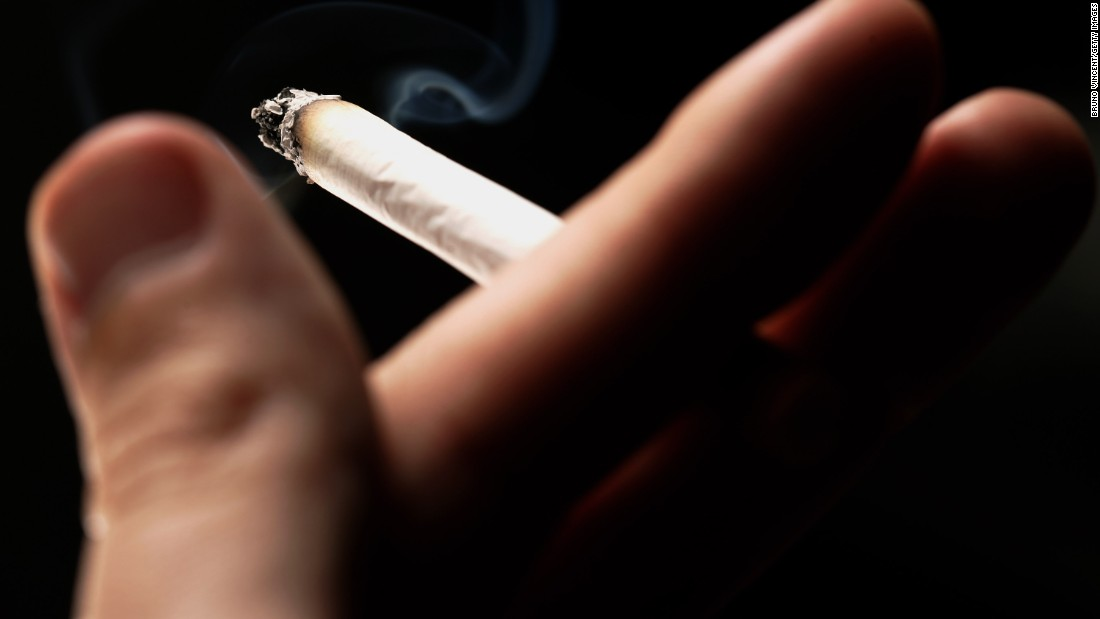cigarette: (214, 68, 679, 342)
